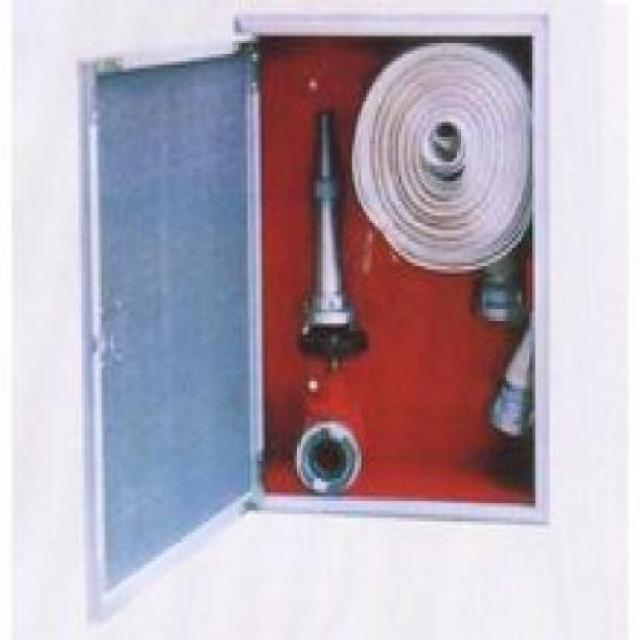firehydrant: (68, 4, 560, 636)
